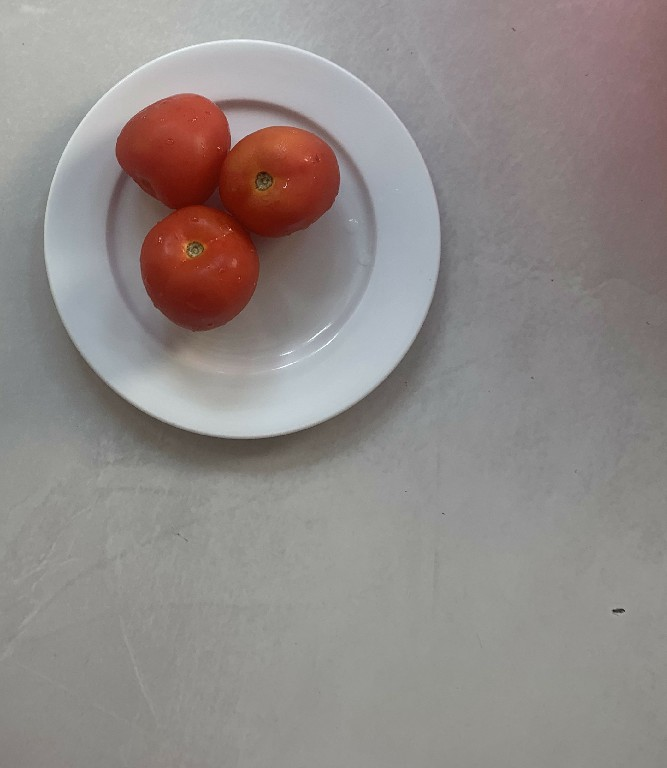OK: (139, 205, 268, 334), (216, 124, 341, 248), (109, 90, 230, 207)
